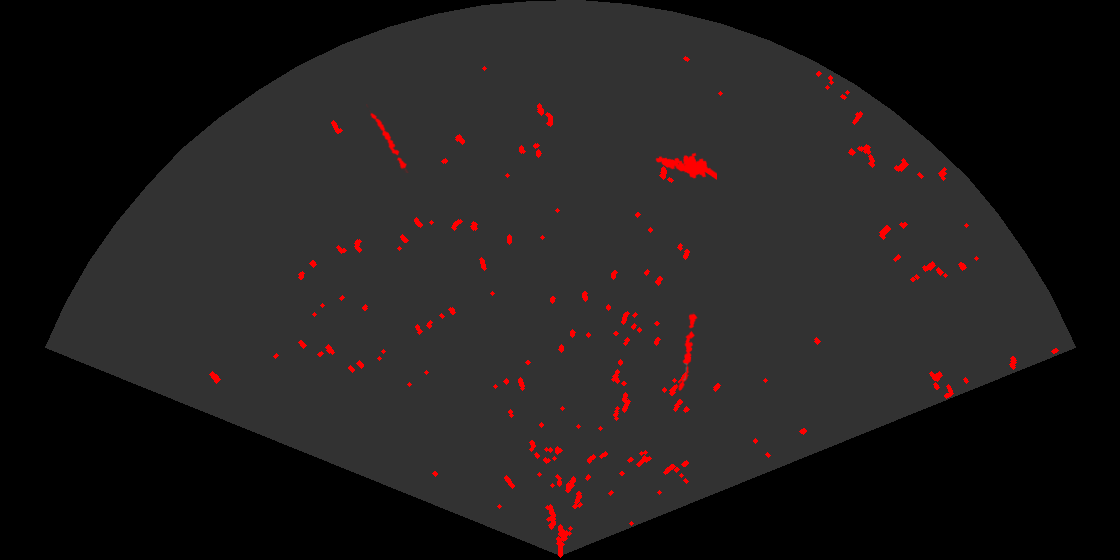chain: (366, 104, 410, 173), (677, 312, 699, 393)
frogman: (654, 151, 717, 181)
